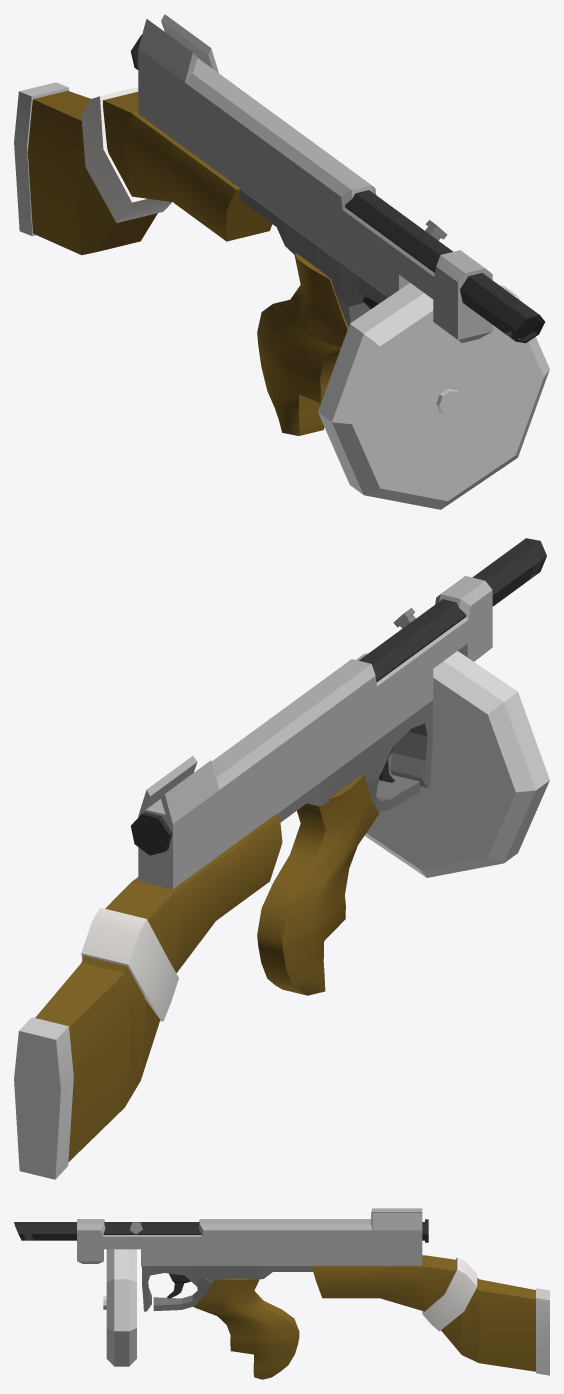
The model's file is TypeWriter.fbx.
The picture shows the model from 3 angles, top to bottom: view 1: azimuth 30°, elevation 25°; view 2: azimuth 150°, elevation 25°; view 3: azimuth 270°, elevation 25°; orthographic projection. The views are drawn at different scales.
Visible parts, largest first — view 1: Magazine, Frame, Stock, Grip, Barrel, Bandage, Trigger_Guard, Tapa; view 2: Frame, Magazine, Stock, Grip, Tapa, Barrel, Trigger_Guard, Bandage; view 3: Frame, Stock, Grip, Magazine, Trigger_Guard, Barrel, Bandage, Tapa, Trigger.
Part boxes in pixels (x1,y1,x2,y2): Magazine: [318, 283, 549, 509]; Frame: [138, 14, 492, 342]; Stock: [27, 90, 272, 255]; Grip: [257, 252, 348, 435]; Barrel: [130, 34, 544, 343]; Bandage: [81, 87, 171, 223]; Trigger_Guard: [239, 190, 387, 326]; Tapa: [14, 82, 69, 236]; Frame: [138, 576, 492, 889]; Magazine: [356, 651, 549, 877]; Stock: [35, 814, 282, 1162]; Grip: [257, 774, 379, 995]; Tapa: [14, 1017, 73, 1179]; Barrel: [131, 538, 546, 855]; Trigger_Guard: [276, 700, 432, 822]; Bandage: [81, 907, 178, 1021]; Frame: [77, 1208, 422, 1266]; Stock: [311, 1255, 535, 1371]; Grip: [194, 1278, 299, 1379]; Magazine: [103, 1249, 136, 1366]; Trigger_Guard: [142, 1266, 312, 1311]; Barrel: [14, 1219, 428, 1242]; Bandage: [422, 1257, 477, 1331]; Tapa: [536, 1288, 549, 1375]; Trigger: [167, 1273, 190, 1298].
Size of the model in its own units: 5.05 by 6.69 by 19.89.
